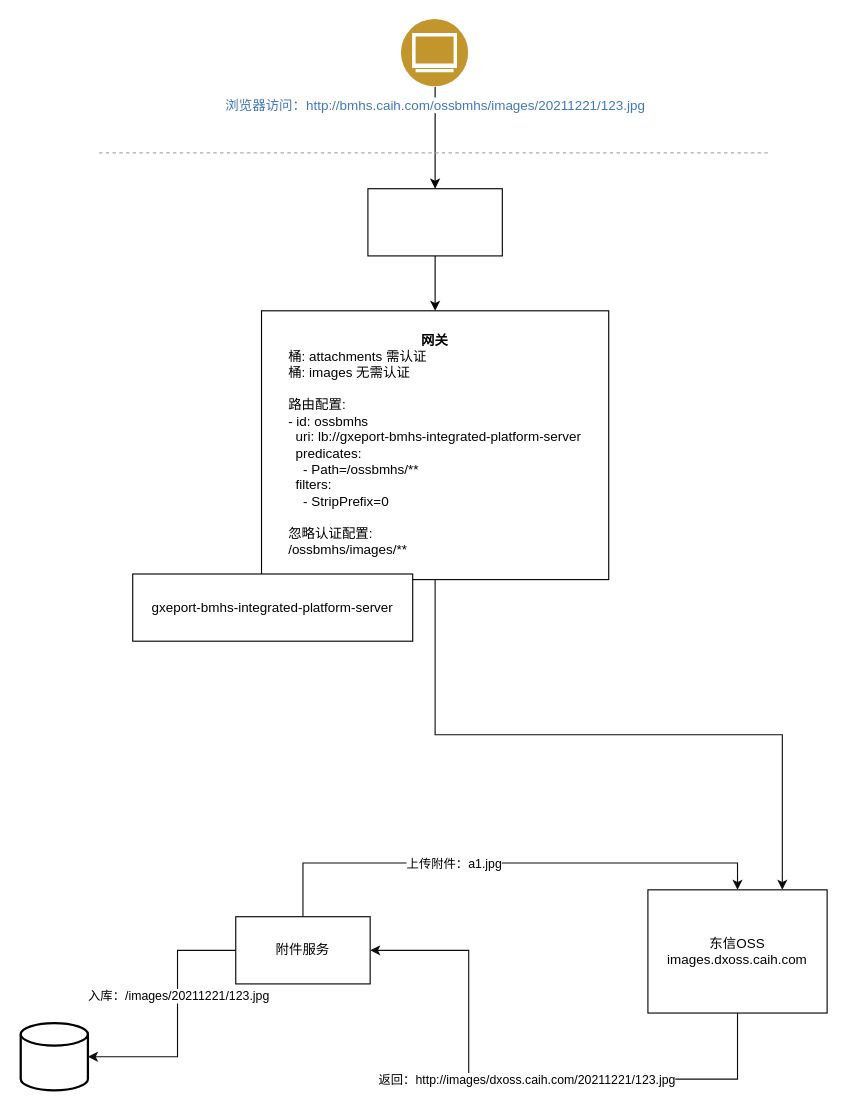
The diagram is 847 pixels wide and 1110 high, and some of its shapes have lost their labels. Here are the shapes that lost their labels. From the top down, the box of each, then its label:
(367, 188, 502, 256): nginx 域名：bmhs.caih.com
(19, 1021, 88, 1091): 数据库
